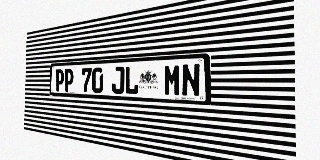0: (92, 67, 103, 93)
7: (81, 68, 92, 93)
J: (111, 66, 124, 94)
L: (125, 66, 139, 95)
M: (164, 64, 181, 96)
N: (181, 63, 200, 97)
P: (64, 69, 74, 92), (55, 69, 64, 92)
